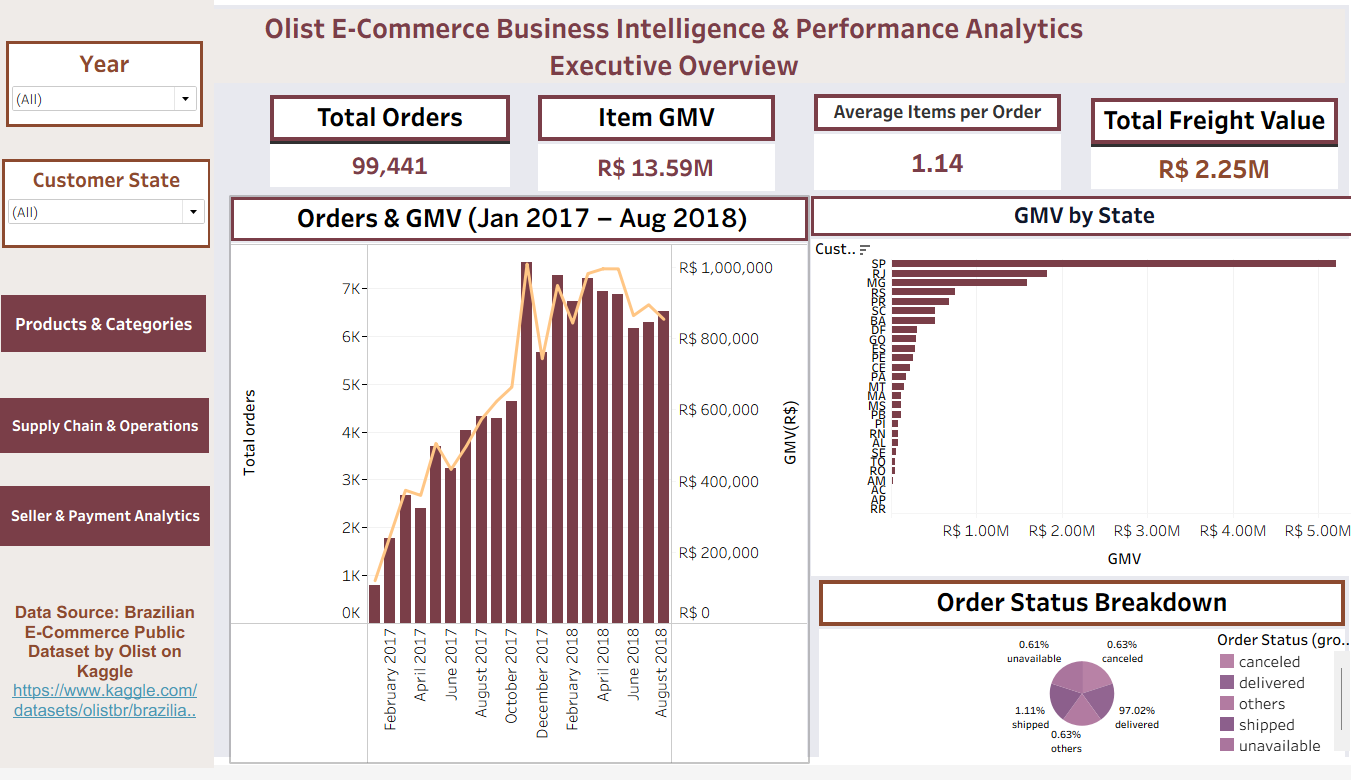

The page's visual inventory and layout, read from the dashboard file:
{"tool":"tableau","page":{"name":"Executive Overview","canvas":[1366,768],"ordinal":0},"visuals":[{"type":"blank","box":[6.7,2.9,216.4,768]},{"type":"title","box":[8,8,1350,82]},{"type":"filter","title":"Orders &GMV","param":"[federated.1q6kqwk0jk3ke51gepjcd15al0q6].[yr:order_purchase_timestamp:ok]","box":[15.4,44.1,197.2,86.2]},{"type":"worksheet","title":"Avg items per order","mark":"Automatic","box":[823,97,247,96]},{"type":"worksheet","title":"Total Orders","mark":"Automatic","box":[279,98,240,92]},{"type":"worksheet","title":"ITEM GMV","mark":"Automatic","box":[547,98,237,96]},{"type":"worksheet","title":"Total Freight Value","mark":"Automatic","box":[1100,101,247,91]},{"type":"filter","title":"GMV by State ","param":"[federated.1q6kqwk0jk3ke51gepjcd15al0q6].[none:customer_state:nk]","box":[10.6,161.8,208.8,89.1]},{"type":"worksheet","title":"GMV by State ","mark":"Automatic","rows":["customer_state"],"cols":["price"],"box":[820,199,547,380]},{"type":"worksheet","title":"Orders &GMV","mark":"Automatic","rows":["order_id","price"],"cols":["order_purchase_timestamp"],"box":[240,200,577,567]},{"type":"dashboard-object","box":[9.6,297.8,205.9,57.5]},{"type":"dashboard-object","box":[8.7,401.2,209.7,54.6]},{"type":"dashboard-object","box":[8.7,489.3,210.7,60.3]},{"type":"worksheet","title":"Order Status breakdown","mark":"Pie","box":[828,583,526,178]},{"type":"text","box":[17.3,598.5,194.3,133.1]},{"type":"legend","title":"Order Status breakdown","param":"[federated.1q6kqwk0jk3ke51gepjcd15al0q6].[Order Status (group)]","box":[1225.5,632,134.7,121.6]}]}

Visuals, with their boxes in screenshot pixels (x1, y1, x2, y2), scaled from the page's 1366x768 canvas onto the 1351x780 screenshot:
blank: box=[7, 3, 221, 779]
title: box=[8, 8, 1343, 91]
"Orders &GMV" filter: box=[15, 45, 210, 132]
"Avg items per order" worksheet: box=[814, 99, 1058, 196]
"Total Orders" worksheet: box=[276, 100, 513, 193]
"ITEM GMV" worksheet: box=[541, 100, 775, 197]
"Total Freight Value" worksheet: box=[1088, 103, 1332, 195]
"GMV by State " filter: box=[10, 164, 217, 255]
"GMV by State " worksheet: box=[811, 202, 1350, 588]
"Orders &GMV" worksheet: box=[237, 203, 808, 779]
dashboard-object: box=[9, 302, 213, 361]
dashboard-object: box=[9, 407, 216, 463]
dashboard-object: box=[9, 497, 217, 558]
"Order Status breakdown" worksheet (Pie marks): box=[819, 592, 1339, 773]
text: box=[17, 608, 209, 743]
"Order Status breakdown" legend: box=[1212, 642, 1345, 765]
